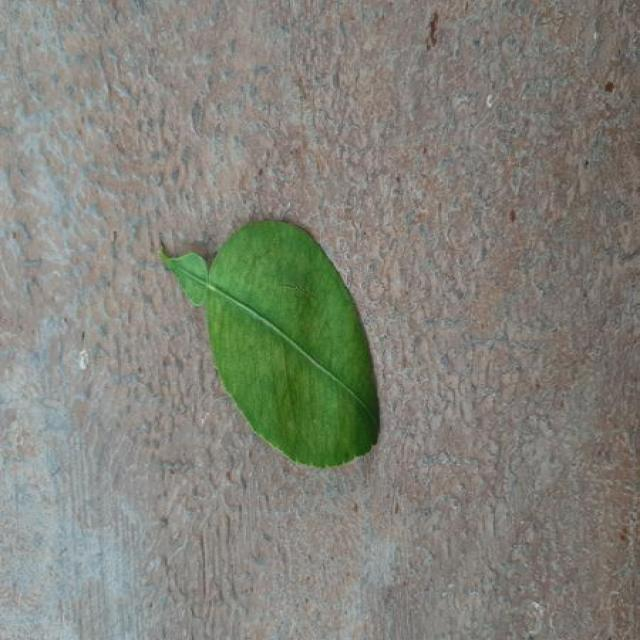lemon: (160, 222, 378, 468)
